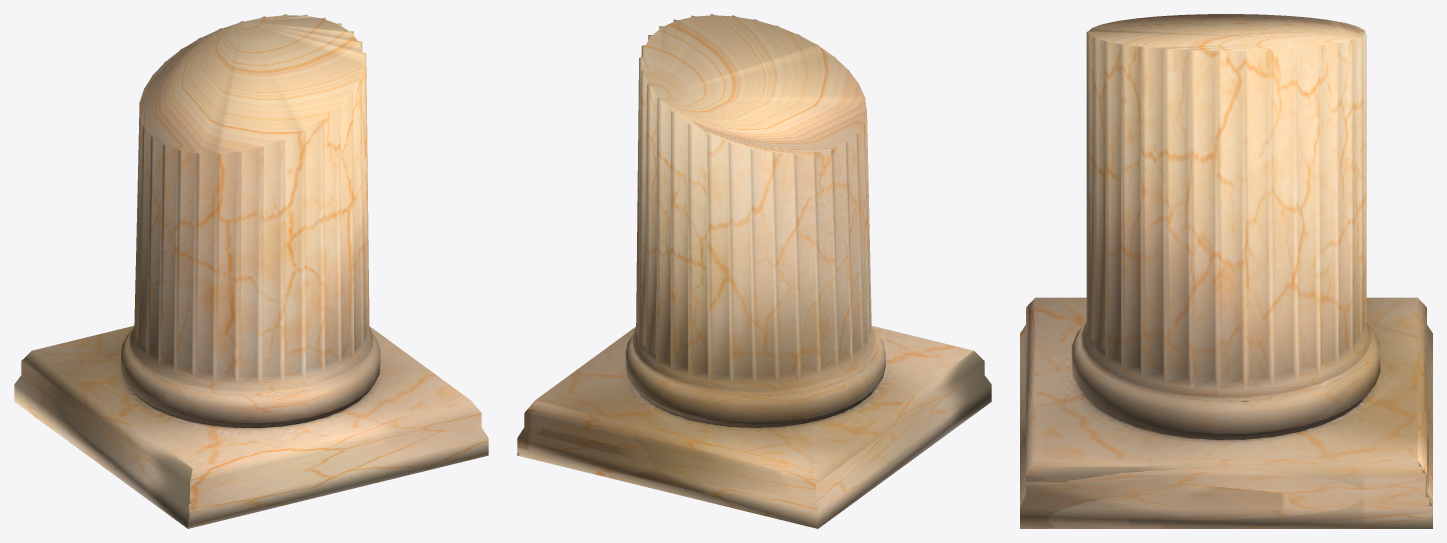
Rendered from columna5.fbx.
3 views of the same model, side by side, from view 1: azimuth 30°, elevation 25°; view 2: azimuth 150°, elevation 25°; view 3: azimuth 270°, elevation 25° (orthographic). The views are drawn at different scales.
Parts seen in each view (by area): view 1: Column Full.001; view 2: Column Full.001; view 3: Column Full.001.
Boxes of the visible parts, x1,y1,x2,y2 form: Column Full.001: (14, 14, 488, 528); Column Full.001: (517, 14, 991, 528); Column Full.001: (1020, 14, 1432, 528).
Size of the model in its own units: 56.47 by 67.46 by 56.47.
